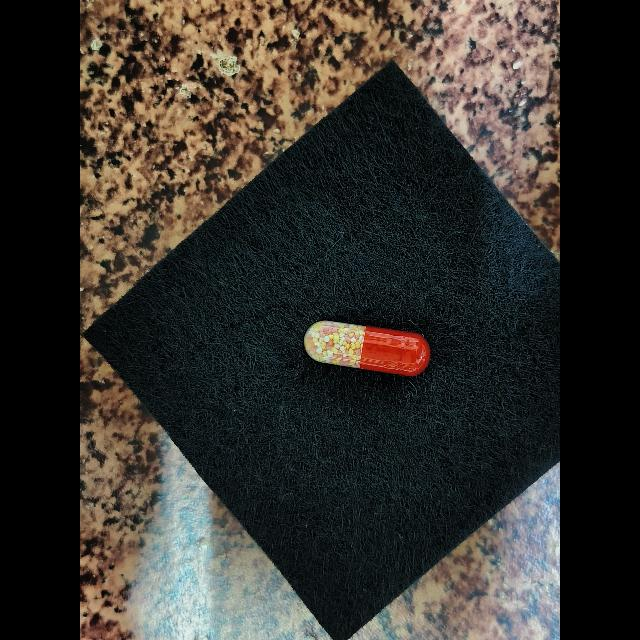Intact Capsule: (304, 321, 430, 376)
